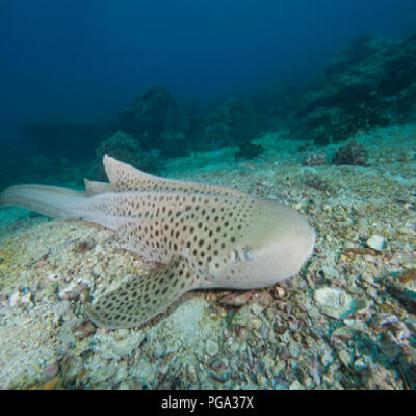zebra_shark: (0, 130, 324, 347)
